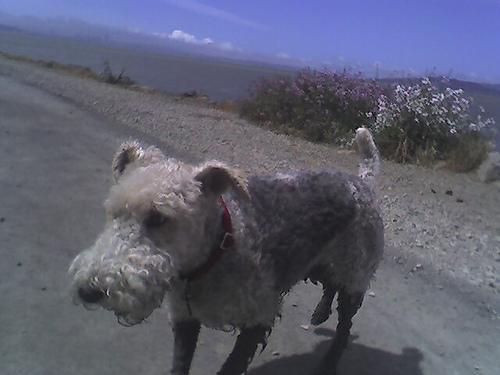wire-haired_fox_terrier: (62, 126, 389, 374)
